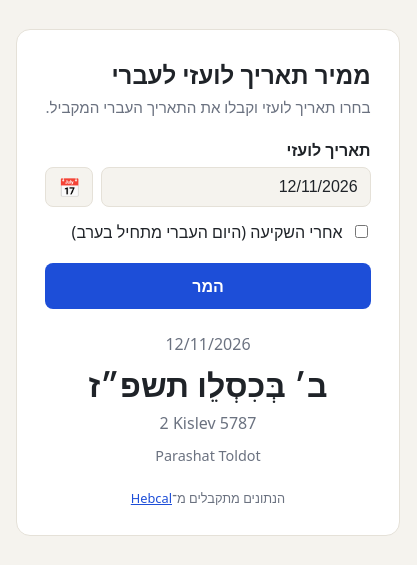
it: App › rejects an invalid date without calling Hebcal
Expected: the text "ב׳ בְּכִסְלֵו תשפ״ז" is shown, [88, 362, 328, 406]
Replace the text in the field labelled "תאריך לועזי" with "31022024". click: {"x": 236, "y": 186}
box: [101, 166, 371, 206]
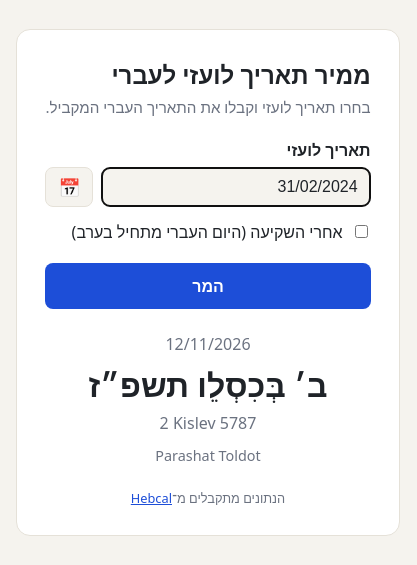
Click the button "המר". click: {"x": 208, "y": 286}
box: [45, 262, 371, 308]
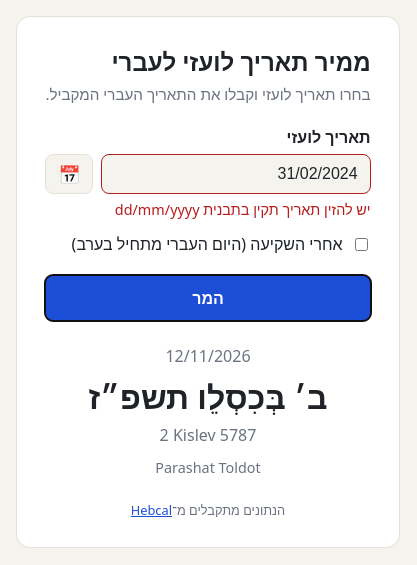
Result: the message shows "dd/mm/yyyy" at [115, 200, 371, 219]
